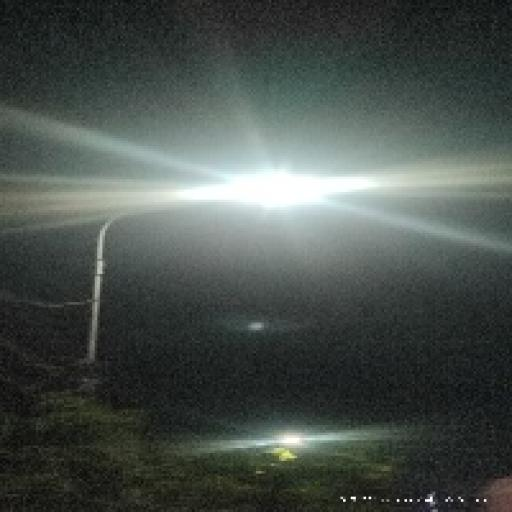Working: (188, 158, 370, 216)
